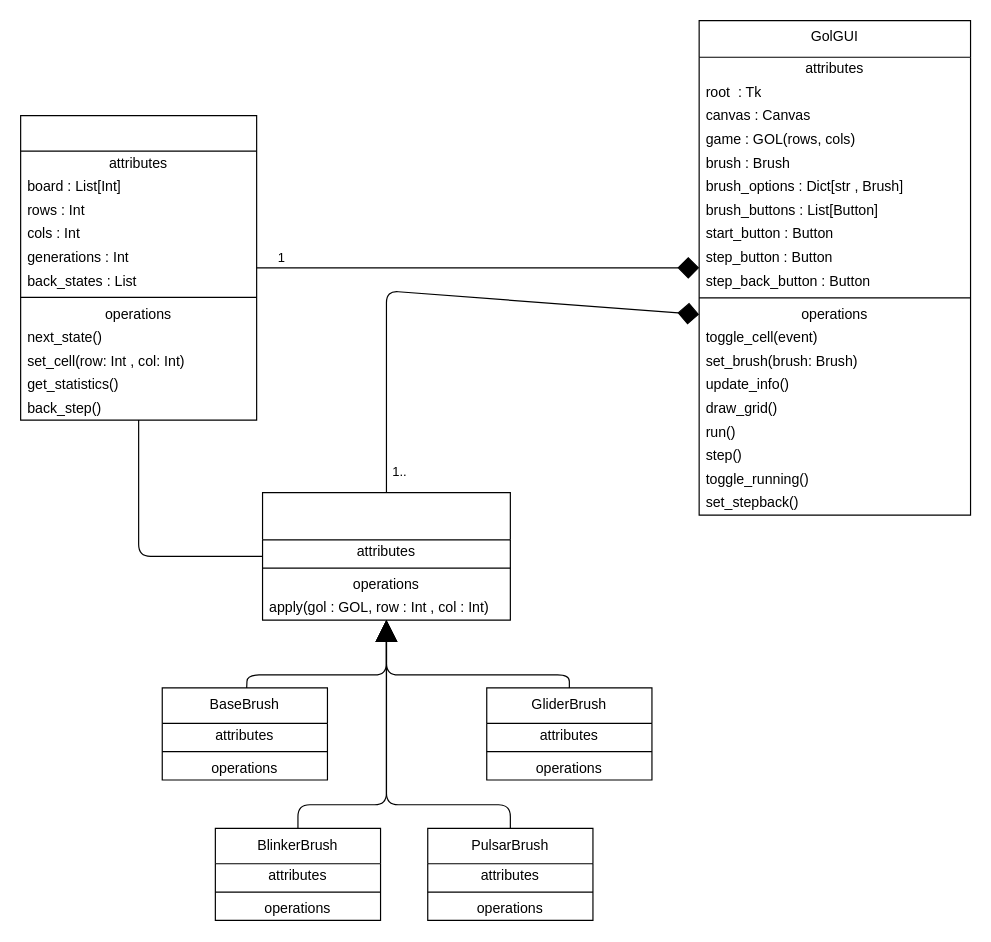
The diagram is 991 pixels wide and 942 high, and some of its shapes have lost their labels. The box of each missing label's shape, as (x1, y1, x2, y2) in pixels:
Brush {abstract}: (261, 491, 510, 620)
GOL: (19, 114, 257, 420)
